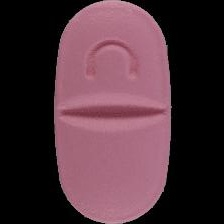50090-0848: (0, 0, 224, 224)
